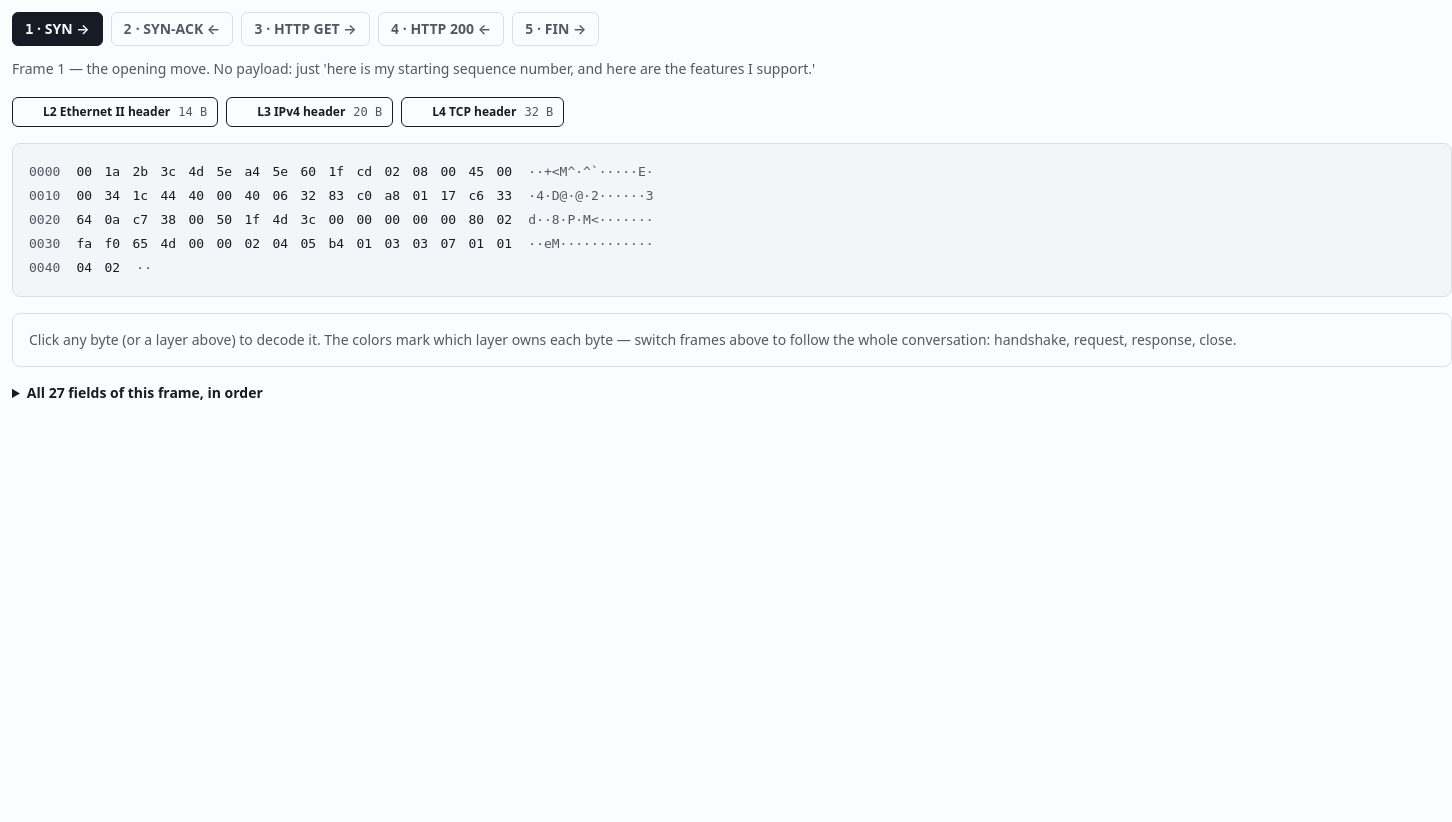
Test case: PacketWalkthrough › decodes the response's acknowledgment of the 74-byte GET
Click the button "4 · HTTP 200 ←" at coordinates (441, 29), box [378,12,504,46]
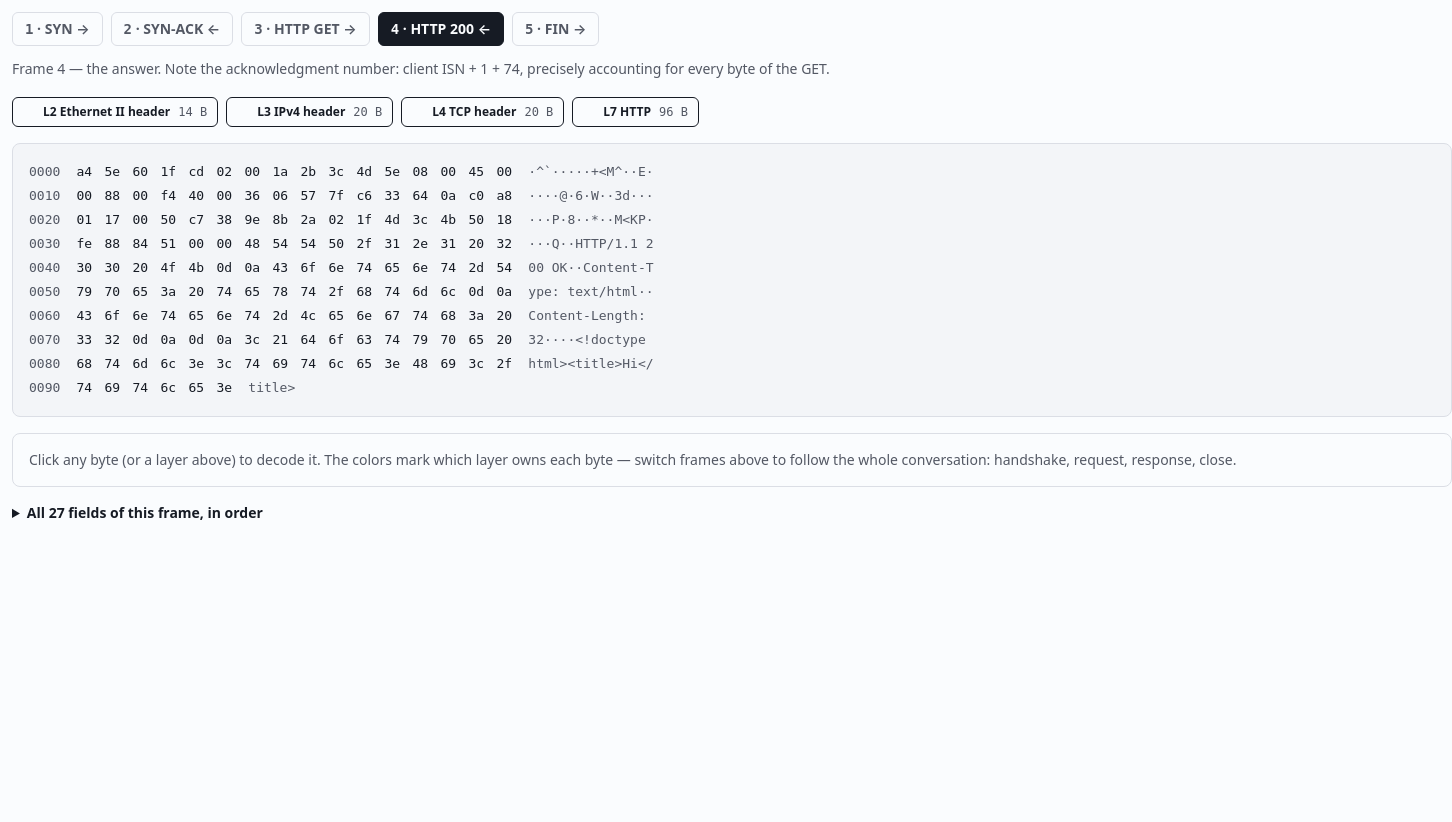
Click the button "1f" in the row of "···P·8··*··M<KP·" at coordinates (364, 220), box [352,208,376,232]
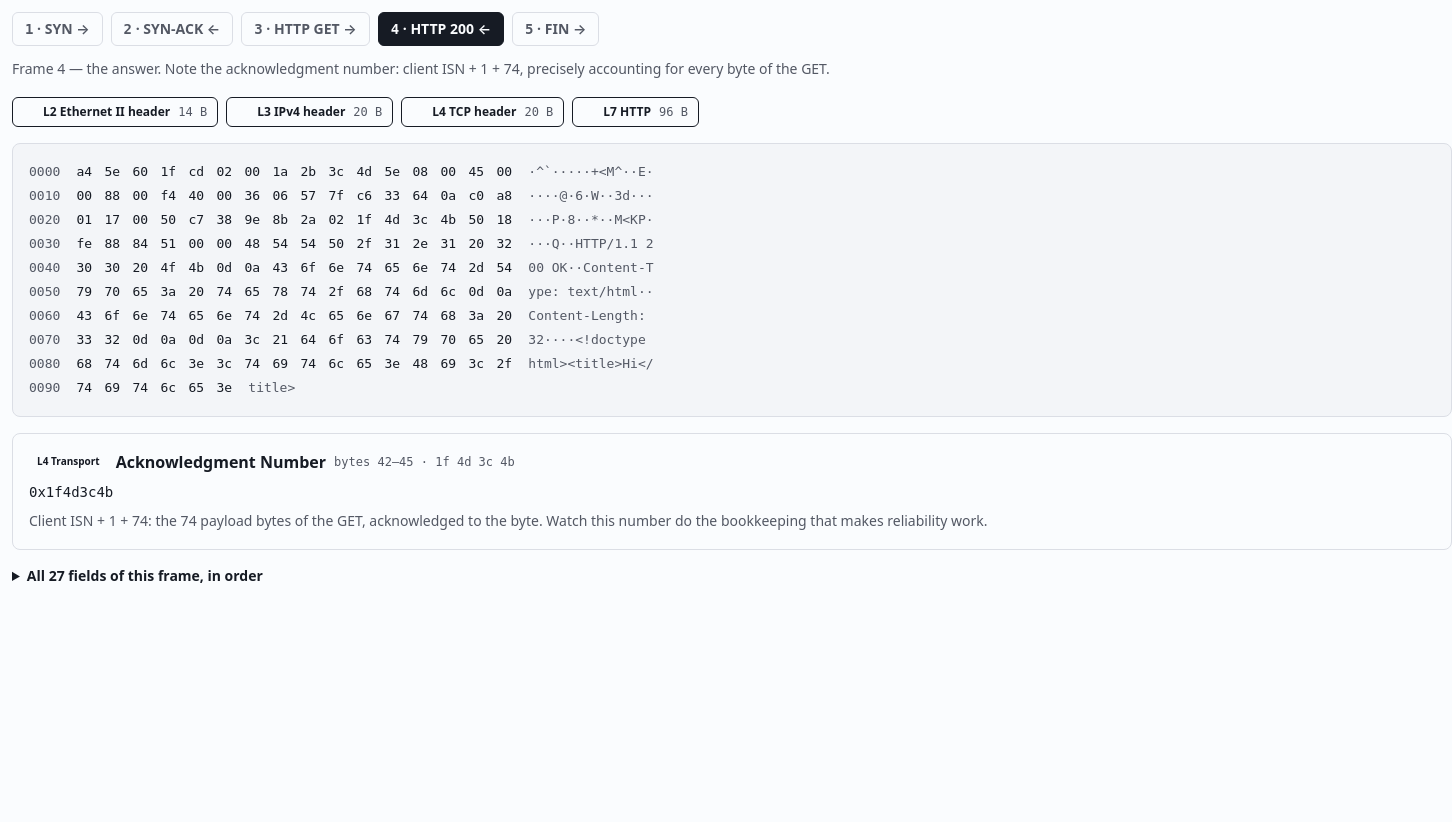
Now the text "Acknowledgment Number" is shown, box [116,450,326,474]
Now the text "74 payload bytes of the GET" is shown, box [29,511,988,530]
